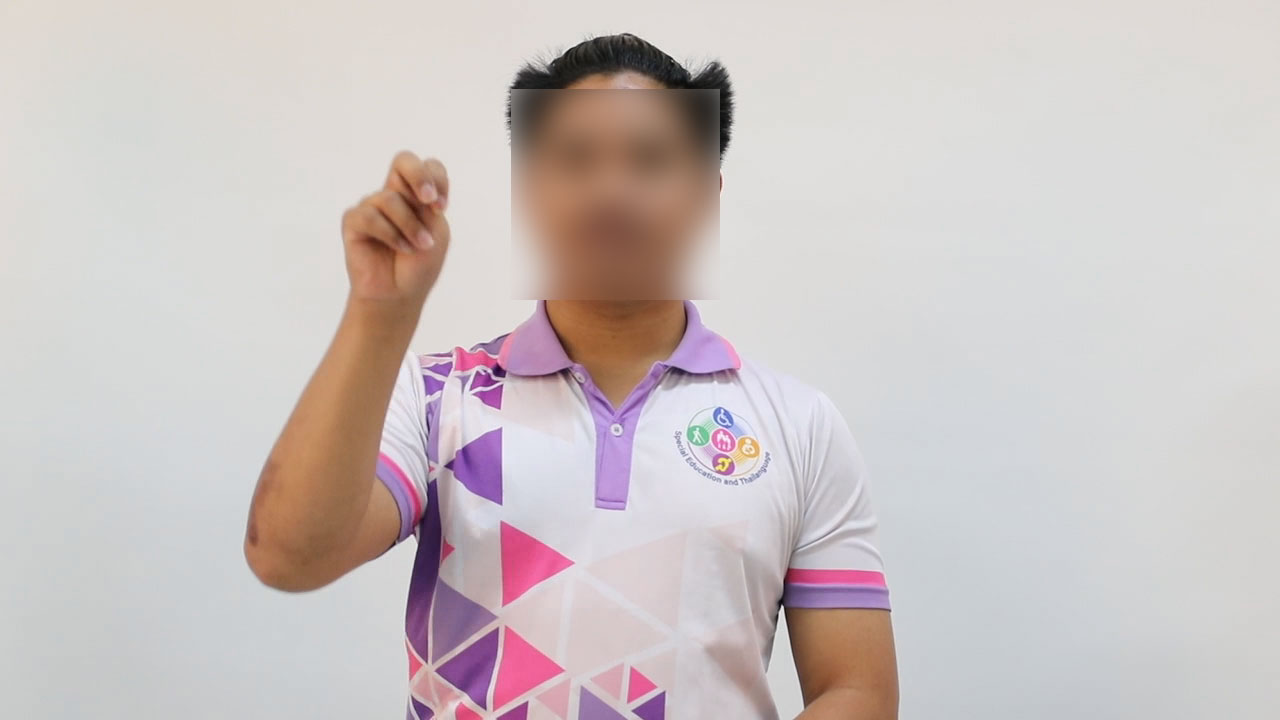nor: (334, 149, 463, 308)
